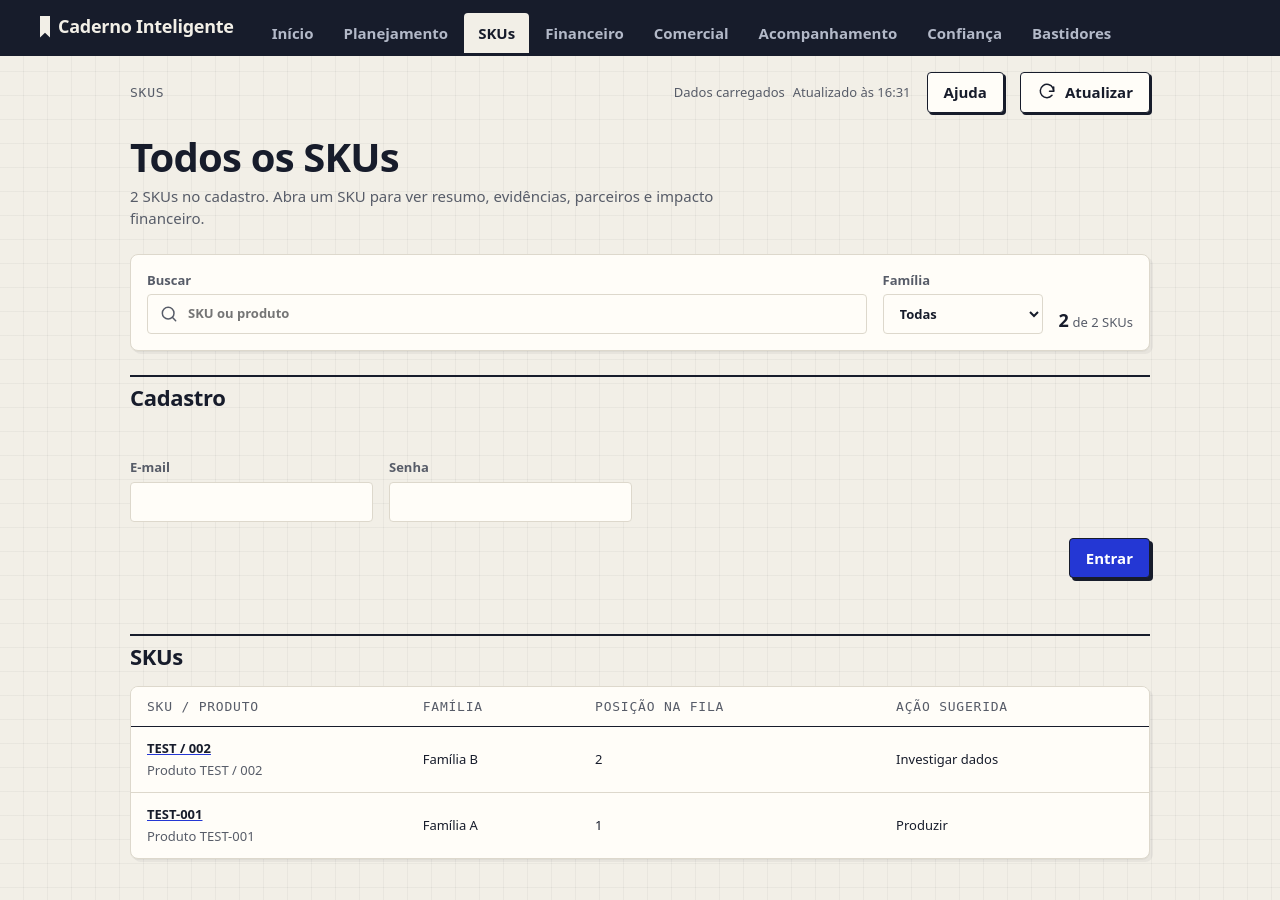
Scenario: cadastro de SKU (fase 3) › com a base no banco, pede login e depois consulta o cadastro com o token
Type "pcp@exemplo.com" into the field labelled "E-mail" at (252, 502), box [130,482,373,522]
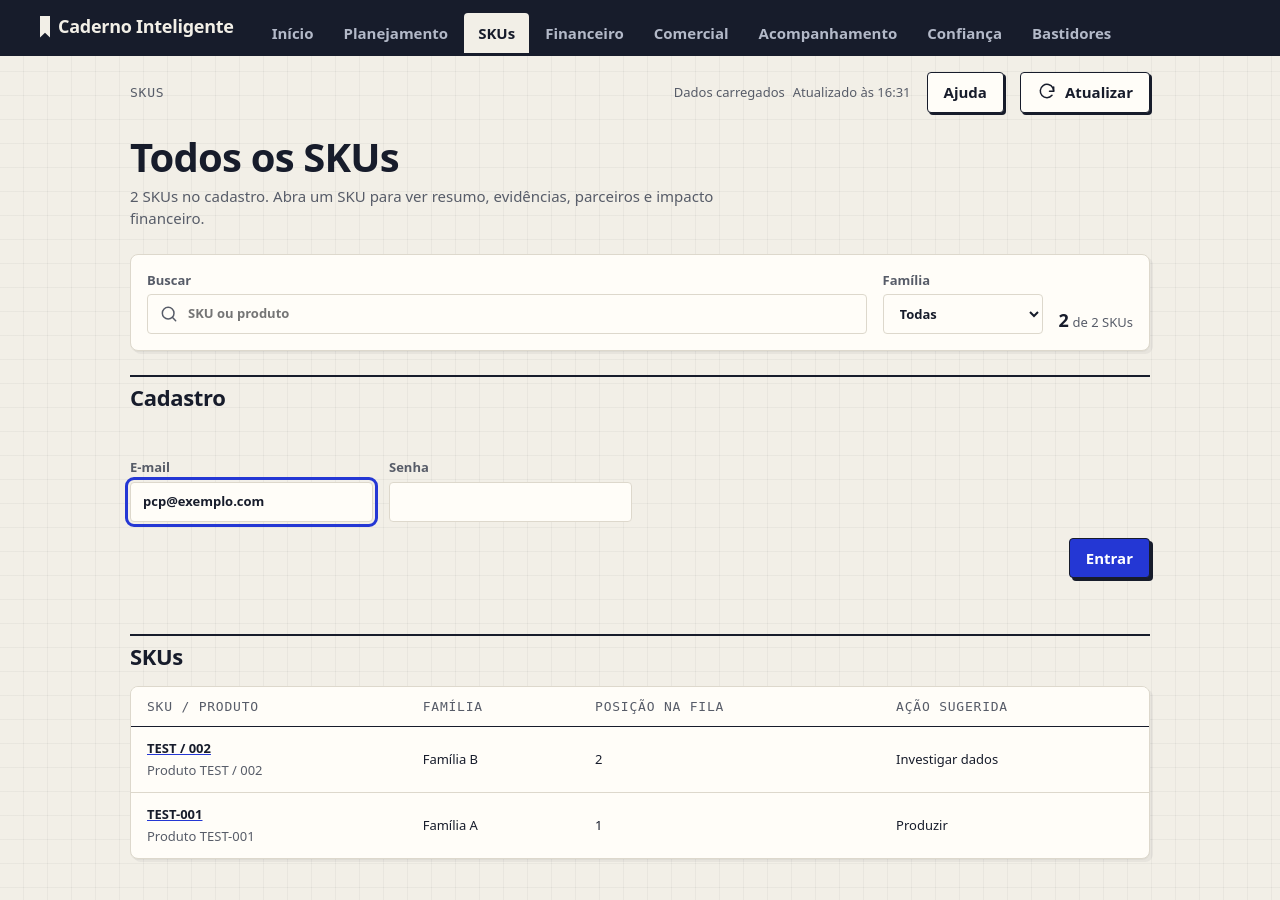
Type "senha-forte-123" into the password field labelled "Senha" at (510, 502), box [389,482,632,522]
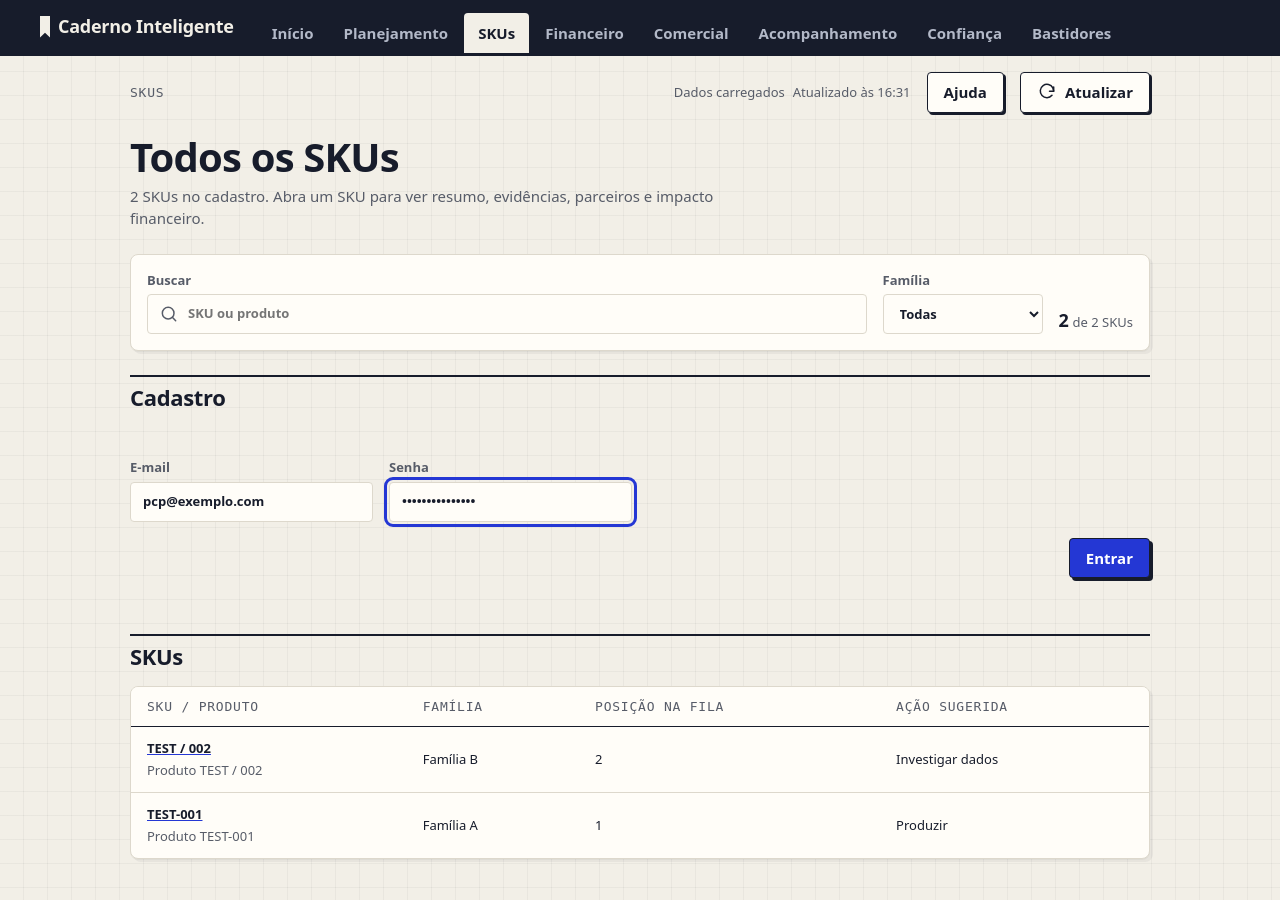
Click the button "Entrar" at (1109, 558), box [1069,538,1150,578]
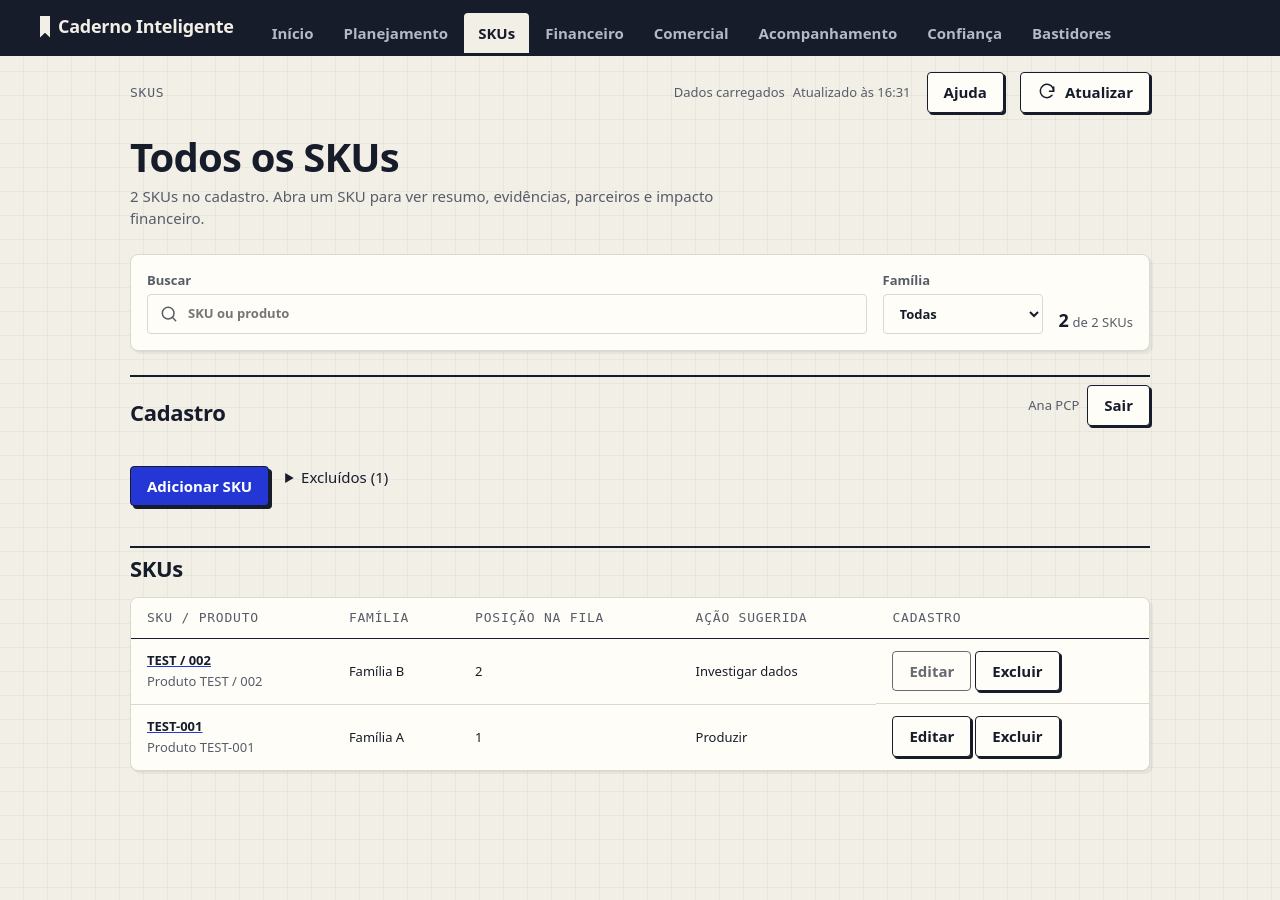
Expected: the button "Adicionar SKU" is enabled, [130,466,269,506]
Expected: the text "Ana PCP" is shown, [1028,396,1079,415]
